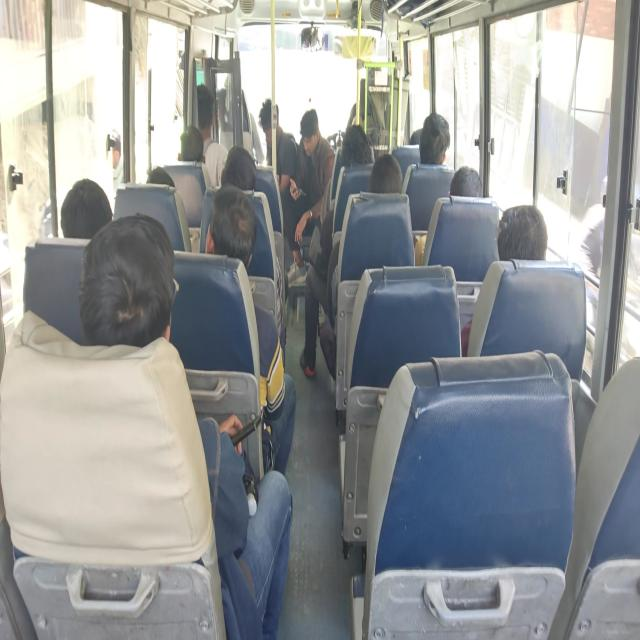person: (94, 218, 162, 341), (62, 176, 120, 244), (216, 191, 264, 262), (185, 69, 219, 139), (499, 201, 540, 252), (255, 93, 285, 146), (298, 105, 327, 157), (423, 112, 444, 170), (449, 175, 484, 208), (343, 125, 372, 162), (146, 160, 170, 196), (176, 125, 204, 154), (222, 162, 255, 186), (372, 160, 393, 188), (226, 140, 250, 162), (410, 127, 420, 144)
